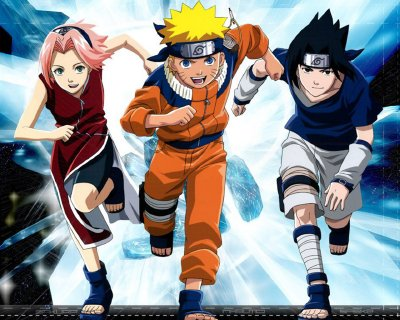naruto: (166, 36, 225, 90)
sakura: (40, 25, 98, 97)
sasuke: (293, 49, 346, 99)
